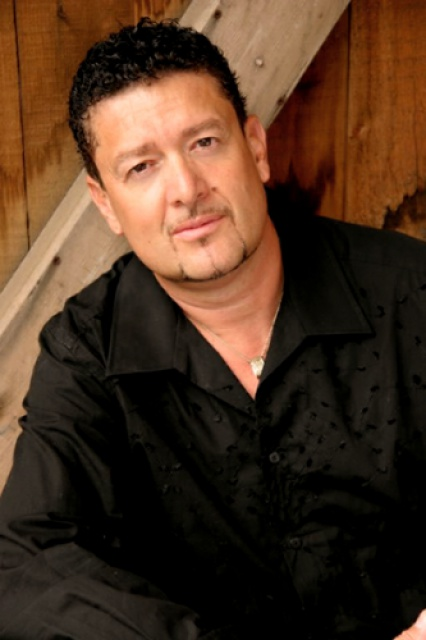bad: (115, 116, 270, 270)
